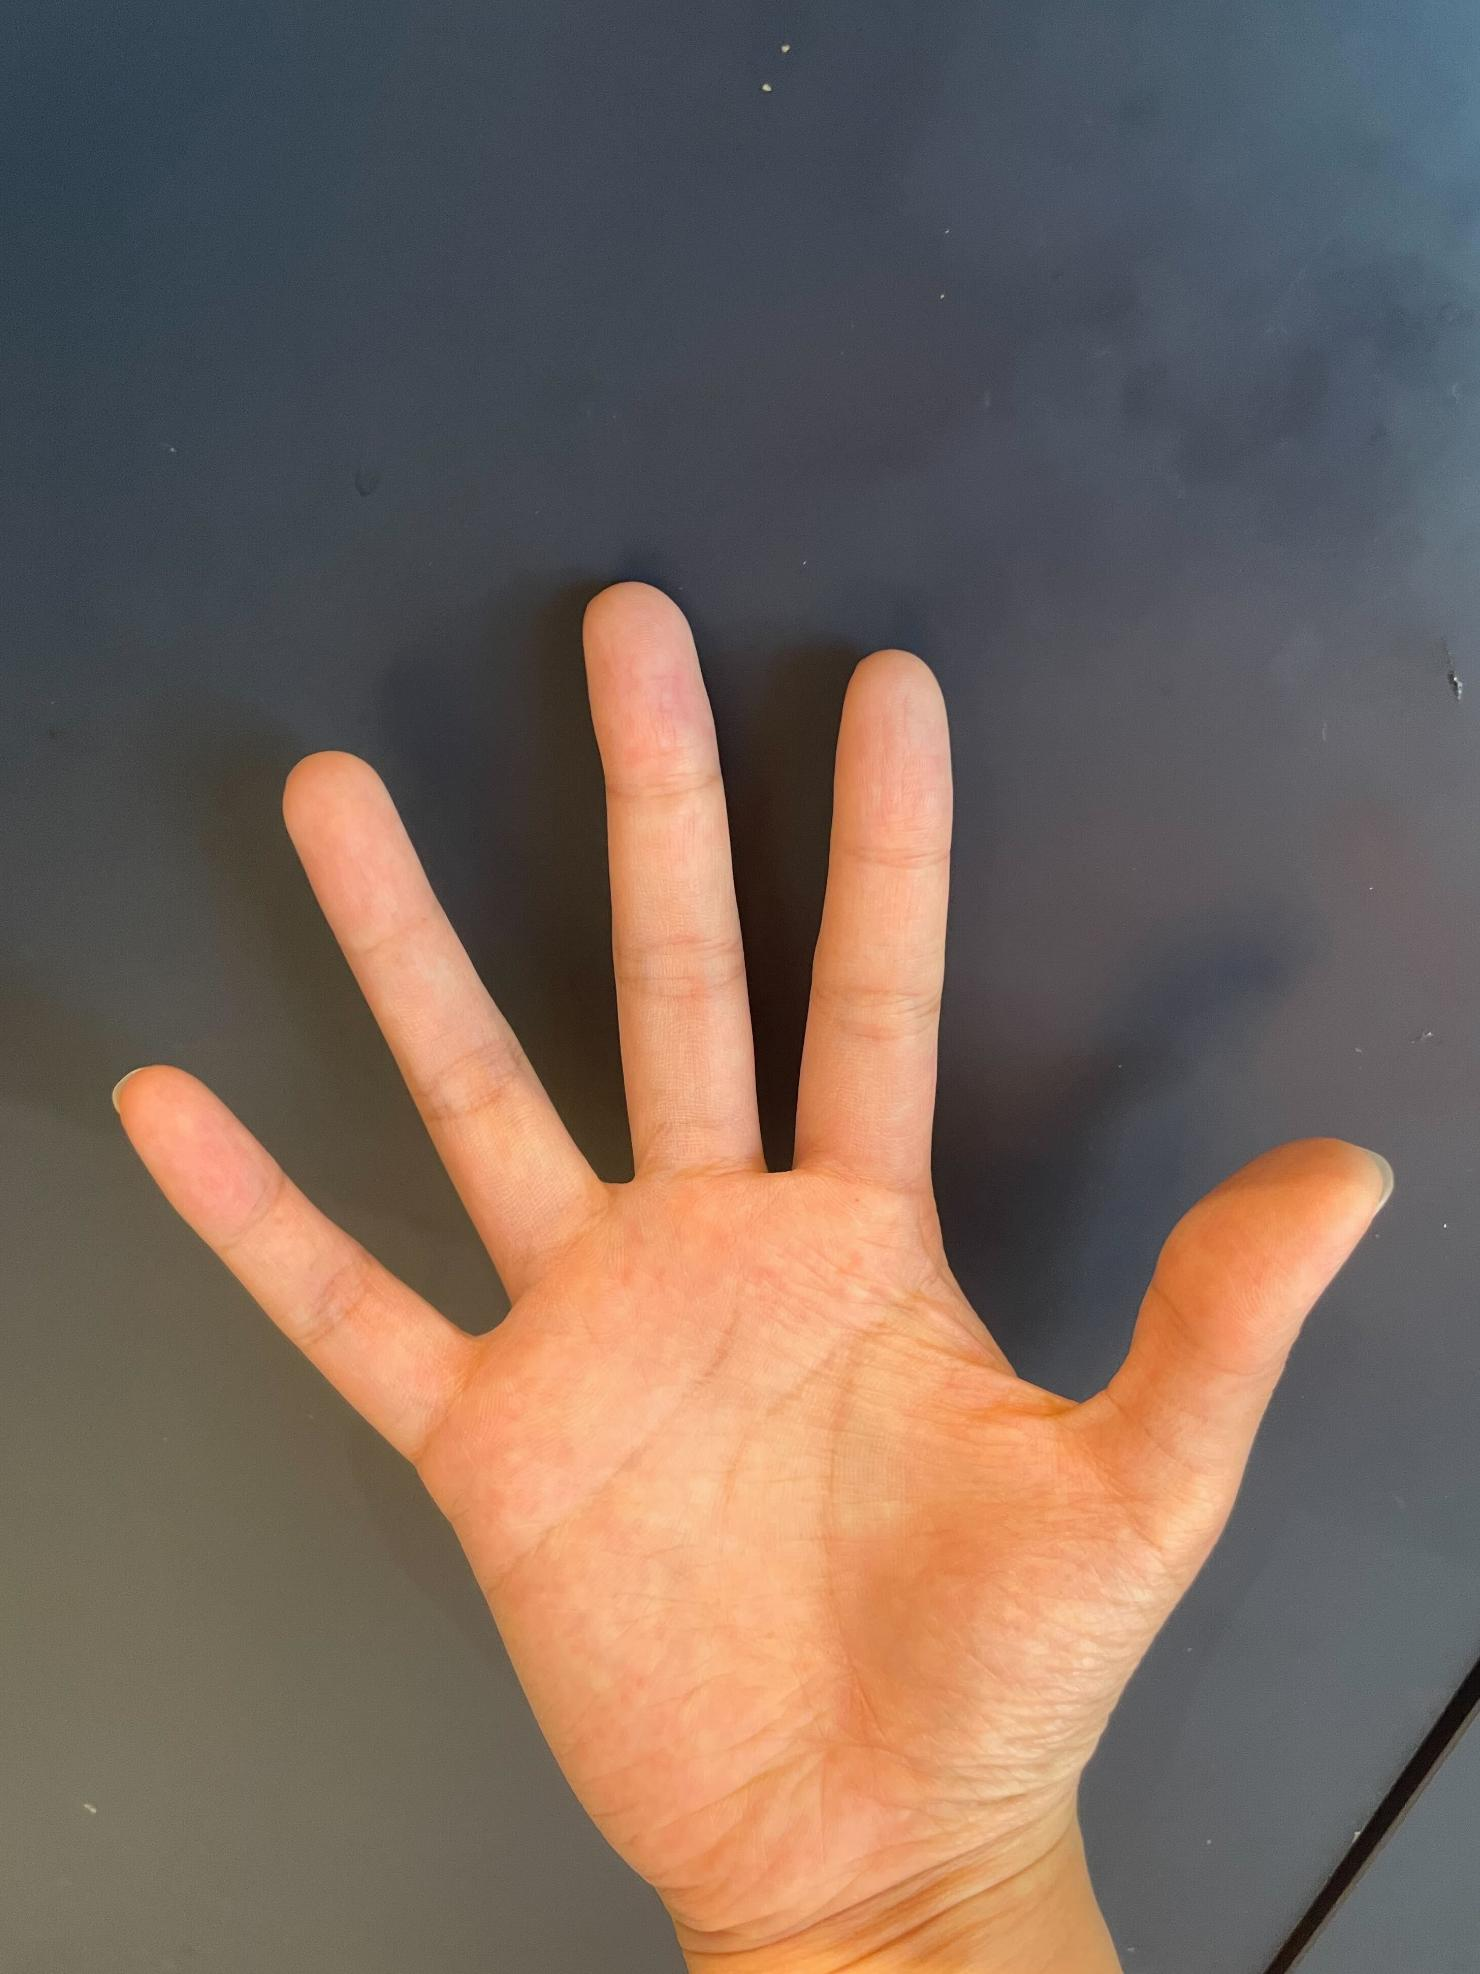open: (75, 559, 1412, 1974)
